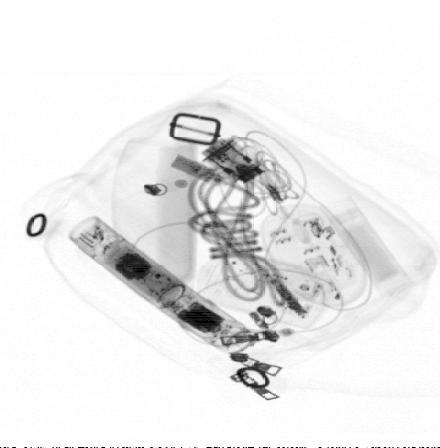Baton: (67, 214, 257, 359)
